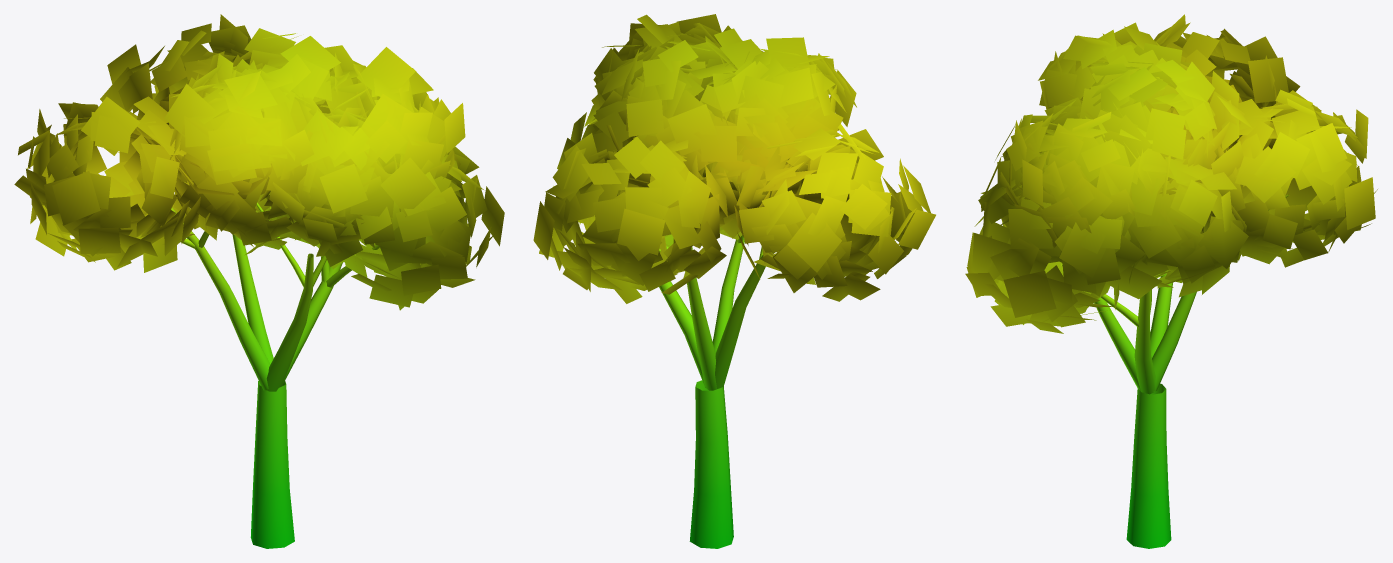
File: keyaki_a.glb
3 views of the same model, side by side, from view 1: azimuth 30°, elevation 25°; view 2: azimuth 150°, elevation 25°; view 3: azimuth 270°, elevation 25° (orthographic). The views are drawn at different scales.
Visible parts, largest first — view 1: keyaki_a; view 2: keyaki_a; view 3: keyaki_a.
Boxes of the visible parts, <box> form: keyaki_a: <box>14,14,504,548</box>; keyaki_a: <box>533,14,935,548</box>; keyaki_a: <box>965,14,1377,548</box>.
Bounding box in the file's own units: 7.15 × 8.63 × 6.66.
